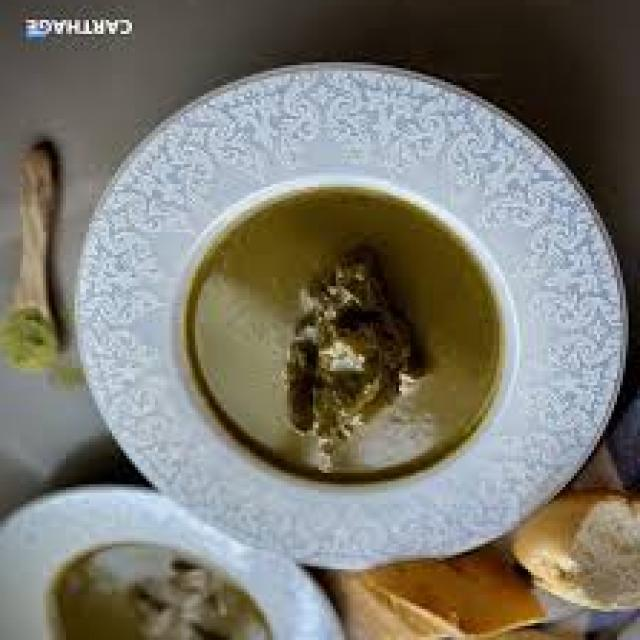Melloukhia: (8, 61, 605, 584), (6, 478, 355, 638)
